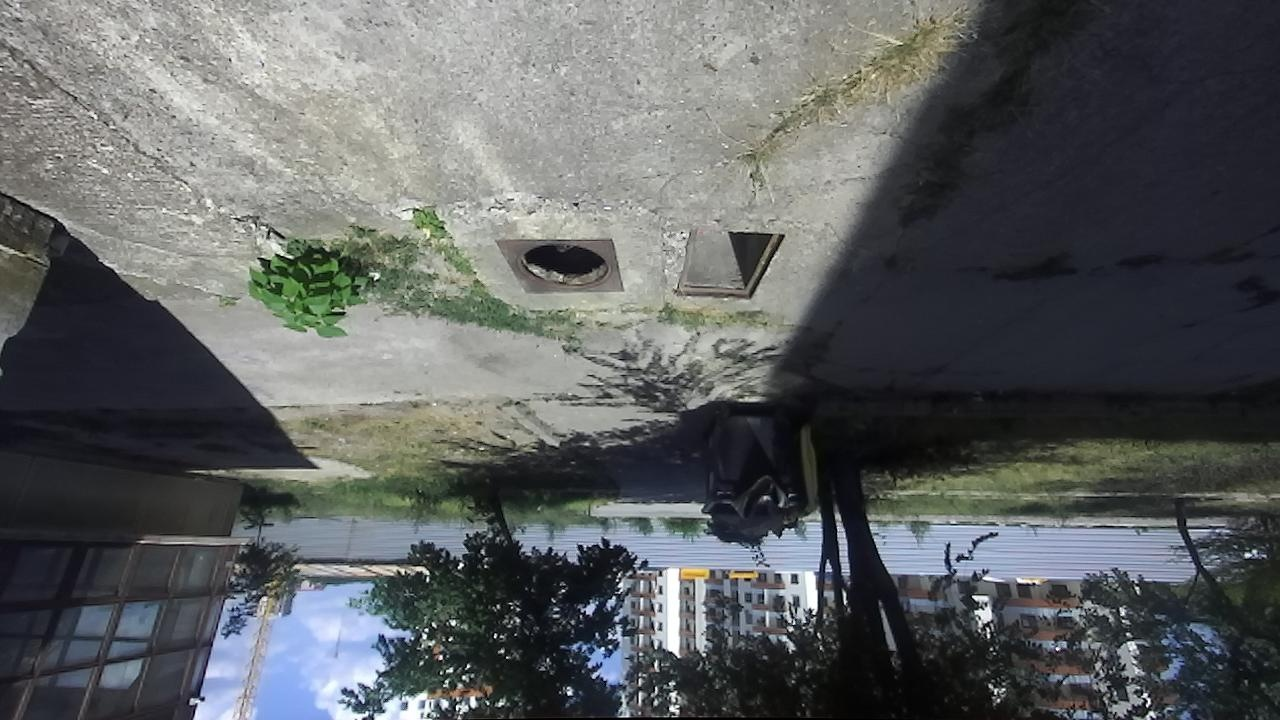drain: (669, 226, 788, 301), (506, 244, 611, 296)
